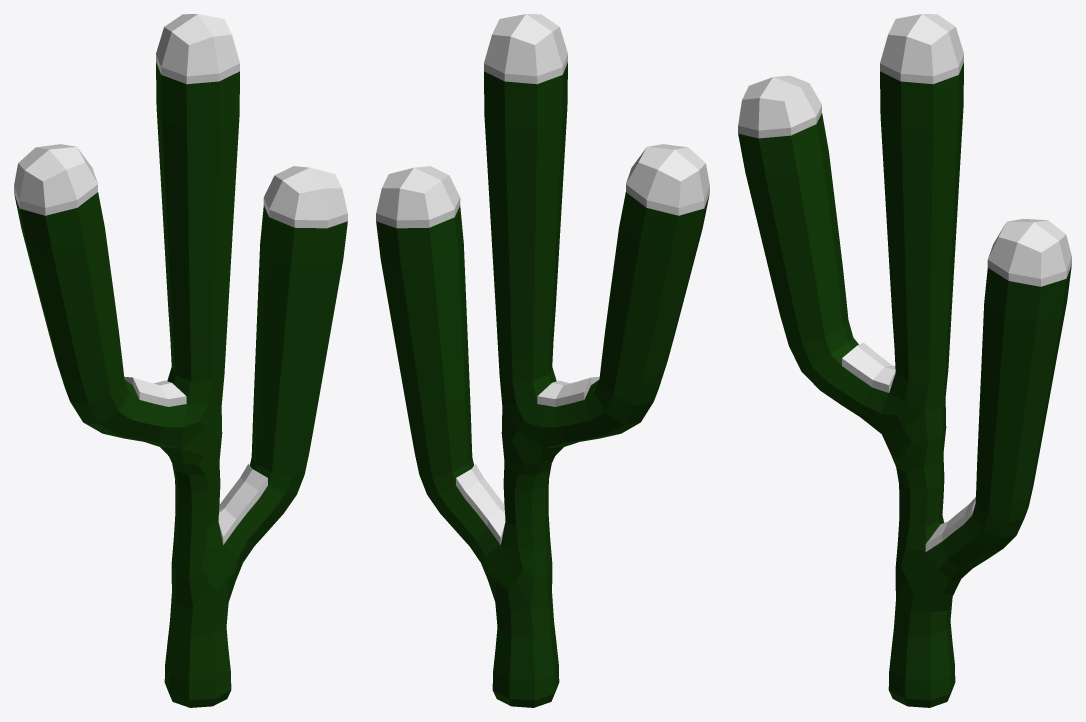
File: Cactus_Winter.fbx
3 renders of one model, left to right at view 1: azimuth 30°, elevation 25°; view 2: azimuth 150°, elevation 25°; view 3: azimuth 330°, elevation 25°, orthographic.
Visible parts, largest first — view 1: Cactus_Winter; view 2: Cactus_Winter; view 3: Cactus_Winter.
Boxes of the visible parts, x1,y1,x2,y2 form: Cactus_Winter: (14, 14, 347, 707); Cactus_Winter: (376, 14, 709, 707); Cactus_Winter: (738, 14, 1071, 707).
Bounding box in the file's own units: 159 × 323 × 36.62.
